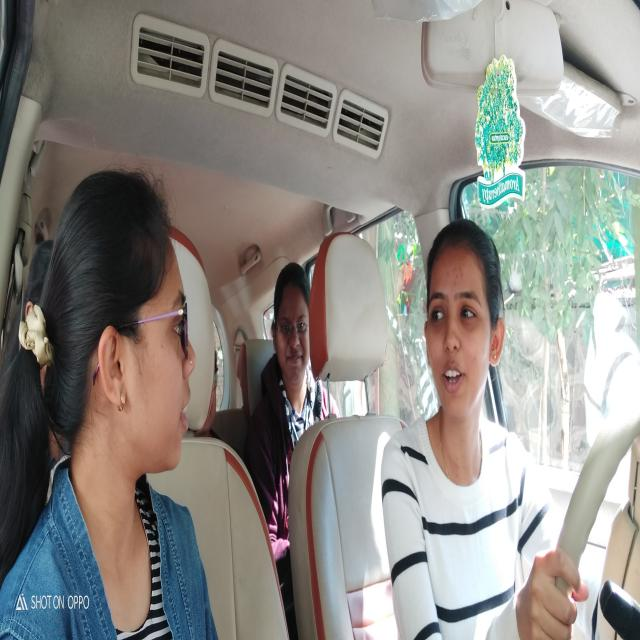LeftRight: (421, 219, 508, 415)
person: (51, 160, 199, 478), (270, 261, 310, 397), (199, 342, 221, 436)
talking: (441, 361, 468, 396), (179, 386, 192, 446)
